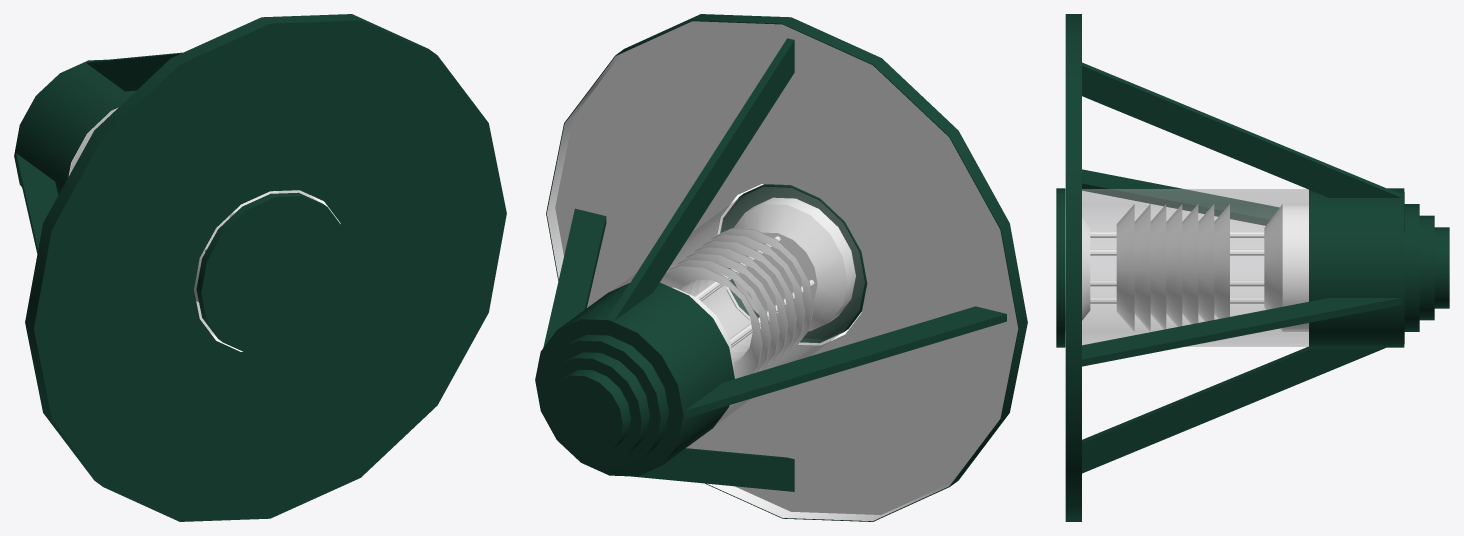
File: Vista.obj
The picture shows the model from 3 angles, left to right: view 1: azimuth 30°, elevation 25°; view 2: azimuth 150°, elevation 25°; view 3: azimuth 270°, elevation 25°; orthographic projection. The views are drawn at different scales.
Parts seen in each view (by area): view 1: Gehaeuse.001_BezierCurve.005, Streben_Cube.001, Glas.001_BezierCurve.004; view 2: Gehaeuse.001_BezierCurve.005, Glas.001_BezierCurve.004, Streben_Cube.001, Lamellen.001_BezierCurve.002, Staebe_Cylinder.001; view 3: Gehaeuse.001_BezierCurve.005, Glas.001_BezierCurve.004, Streben_Cube.001, Lamellen.001_BezierCurve.002, Staebe_Cylinder.001.
Boxes of the visible parts, x1,y1,x2,y2 form: Gehaeuse.001_BezierCurve.005: (14, 14, 506, 521); Streben_Cube.001: (16, 52, 182, 253); Glas.001_BezierCurve.004: (70, 109, 318, 335); Gehaeuse.001_BezierCurve.005: (535, 14, 1027, 521); Glas.001_BezierCurve.004: (614, 187, 864, 424); Streben_Cube.001: (543, 38, 1006, 491); Lamellen.001_BezierCurve.002: (660, 228, 813, 378); Staebe_Cylinder.001: (694, 236, 814, 347); Gehaeuse.001_BezierCurve.005: (1056, 14, 1449, 521); Glas.001_BezierCurve.004: (1065, 189, 1308, 346); Streben_Cube.001: (1082, 62, 1401, 473); Lamellen.001_BezierCurve.002: (1116, 204, 1229, 331); Staebe_Cylinder.001: (1090, 232, 1264, 303).
Bounding box in the file's own units: 0.65 × 0.65 × 0.5028.
